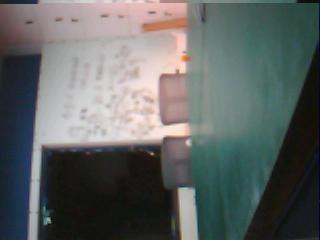oball: (181, 55, 188, 62)
